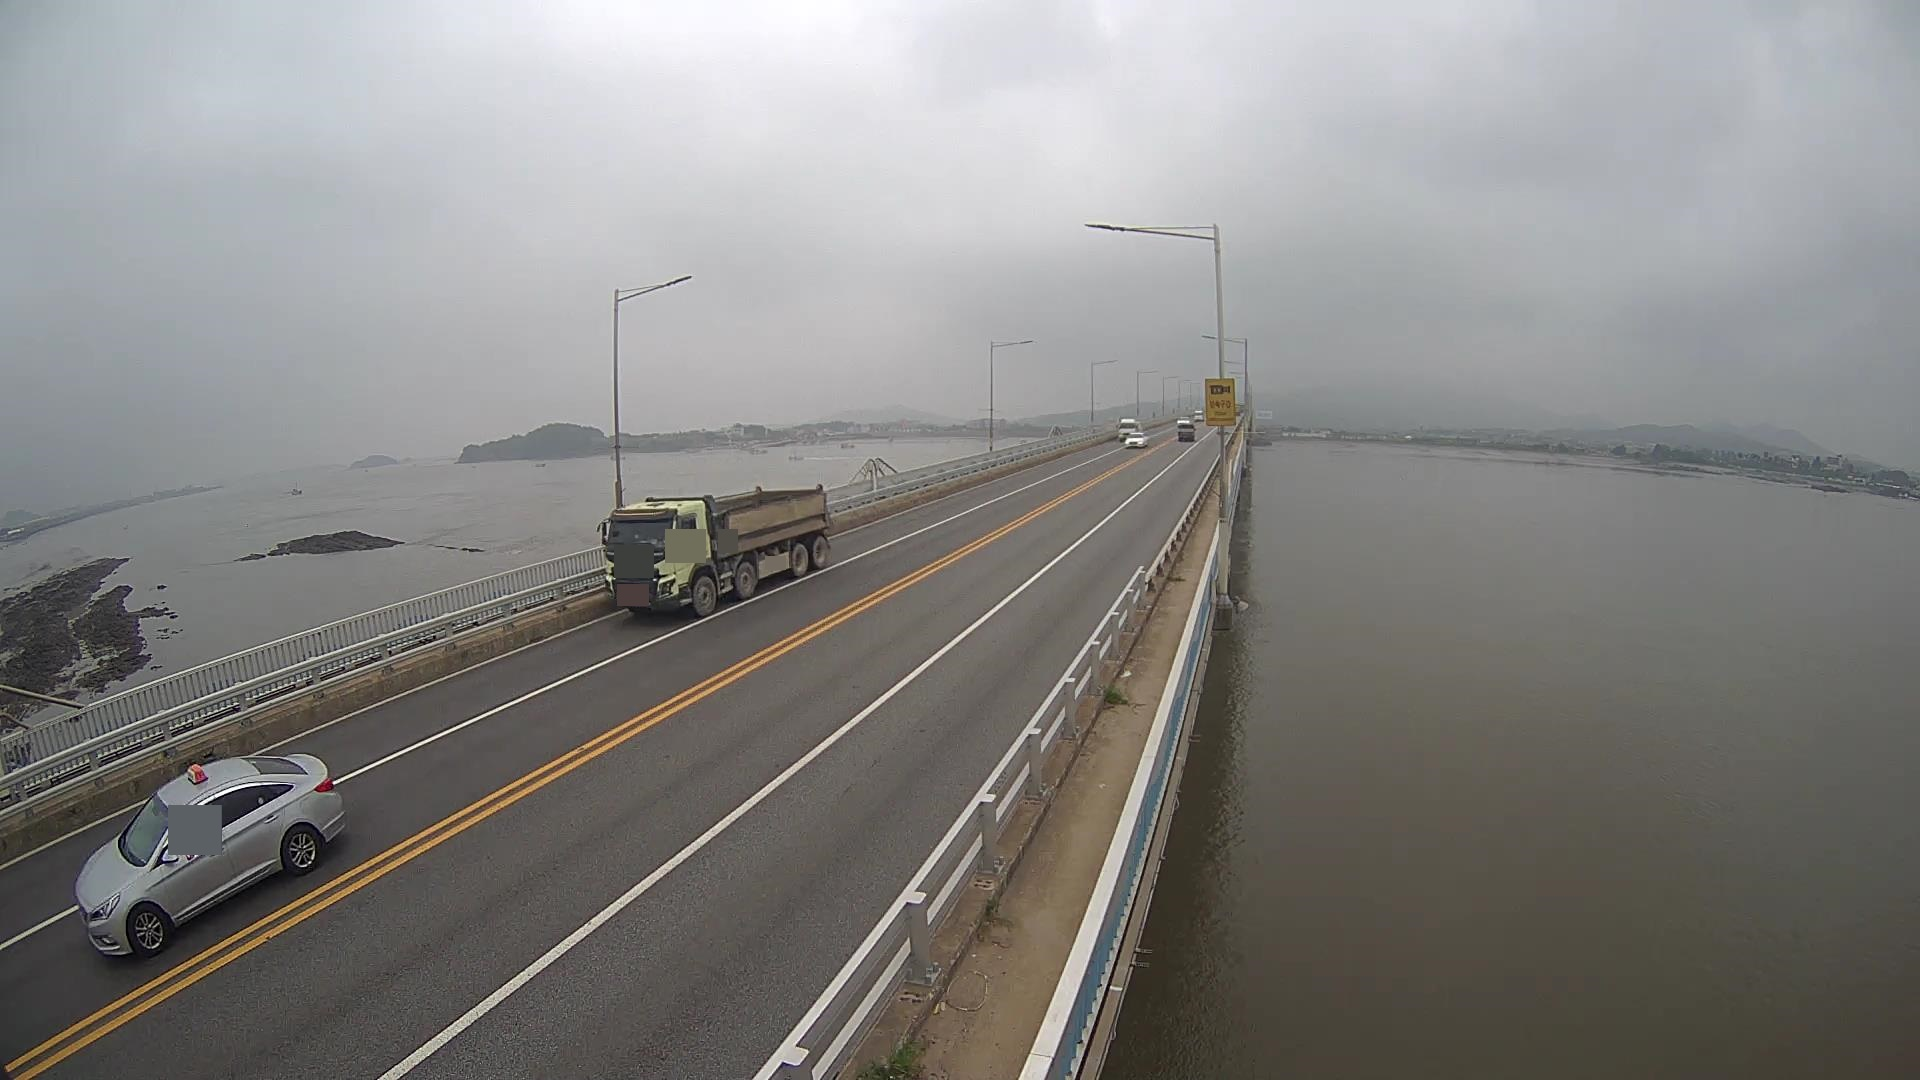정상차량: (596, 483, 832, 617)
